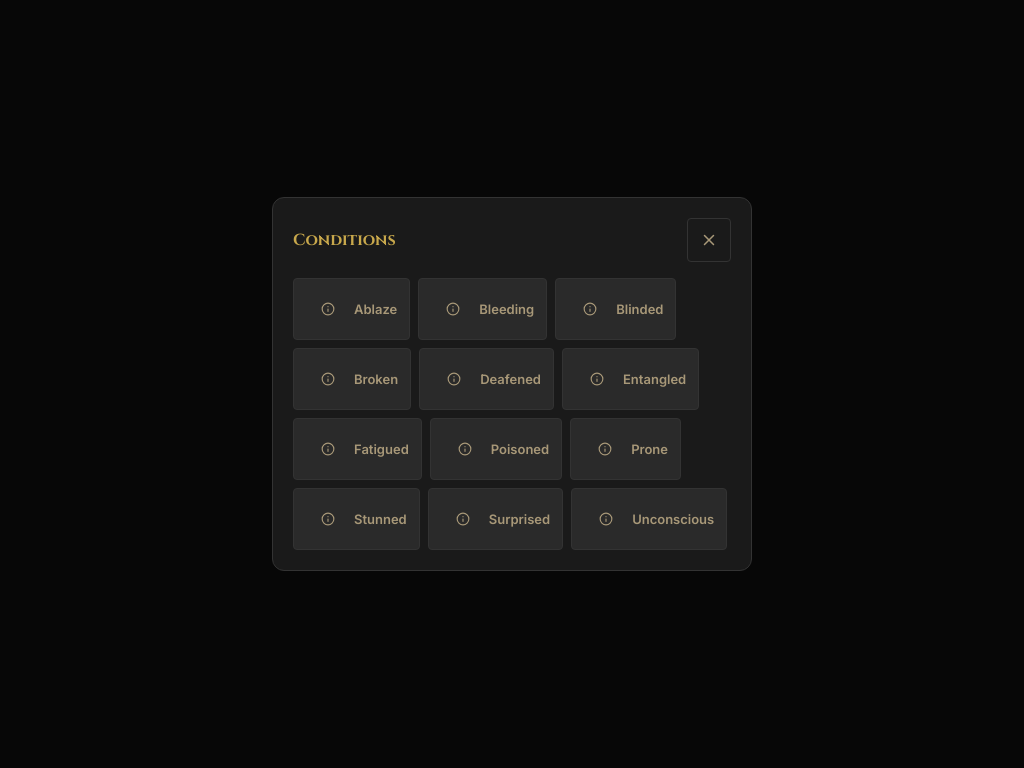
Test case: ConditionPicker — Info Tooltip › closes tooltip when info button is clicked again
Click the button named "Info for Ablaze": (328, 309) [306,287,350,331]
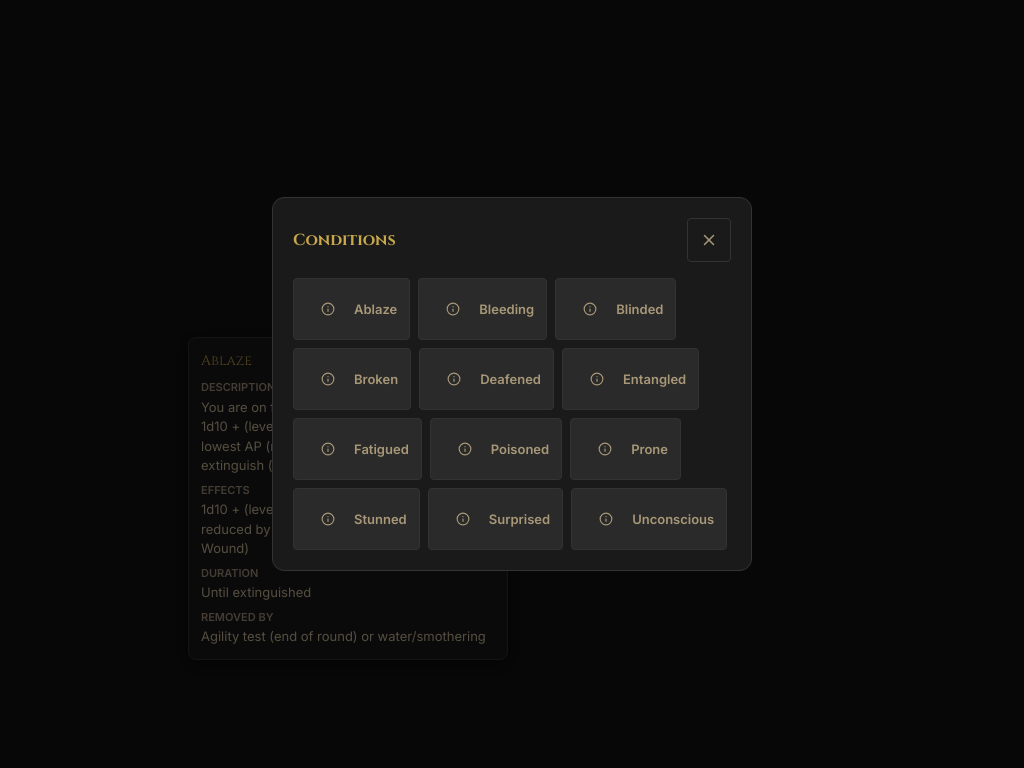
Check: the tooltip is shown, box [188,337,508,660]
Click the button named "Info for Ablaze": (328, 309) [306,287,350,331]
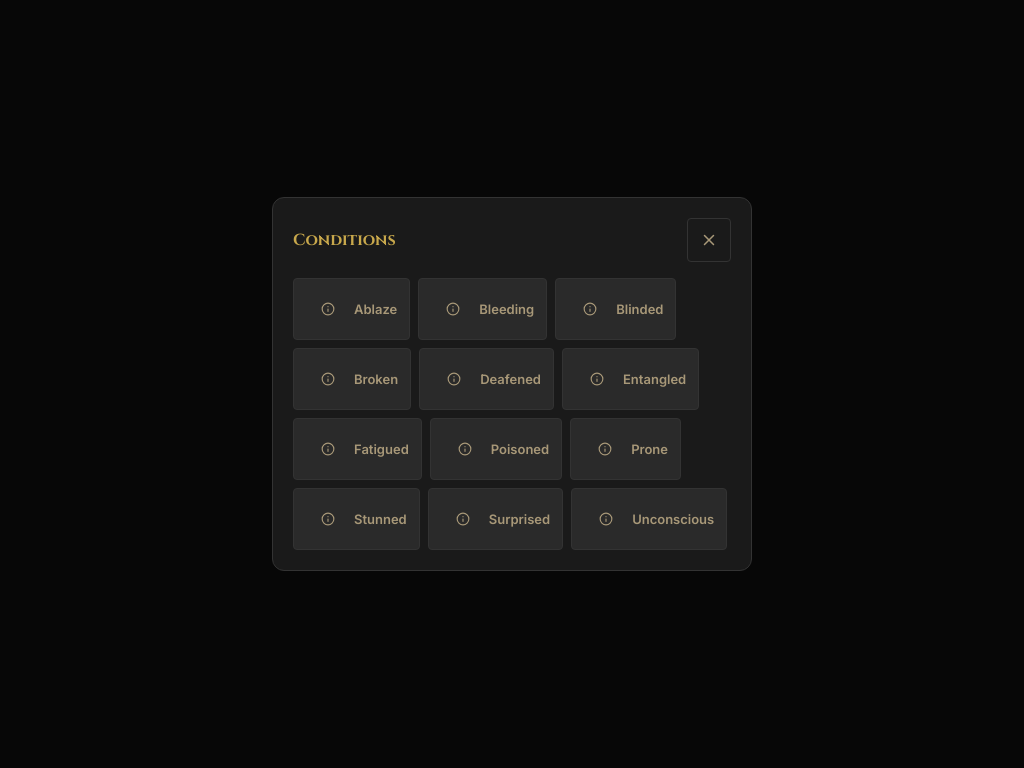
Check: the tooltip is gone
